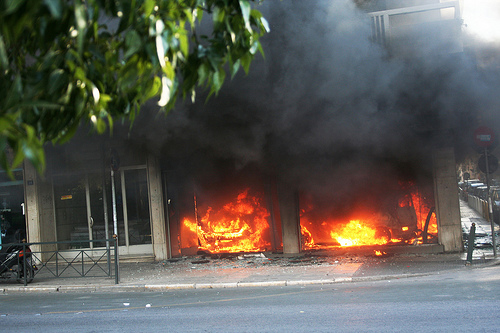fire: (176, 188, 276, 265), (317, 202, 404, 264)
